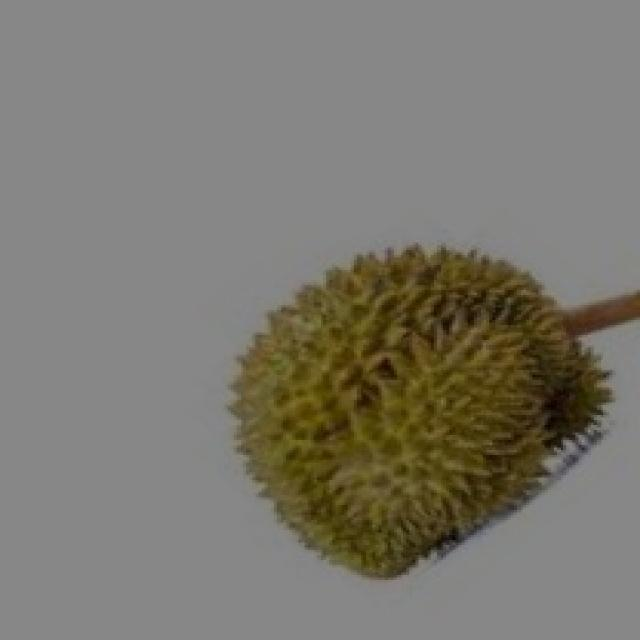fruit: (194, 220, 618, 605)
